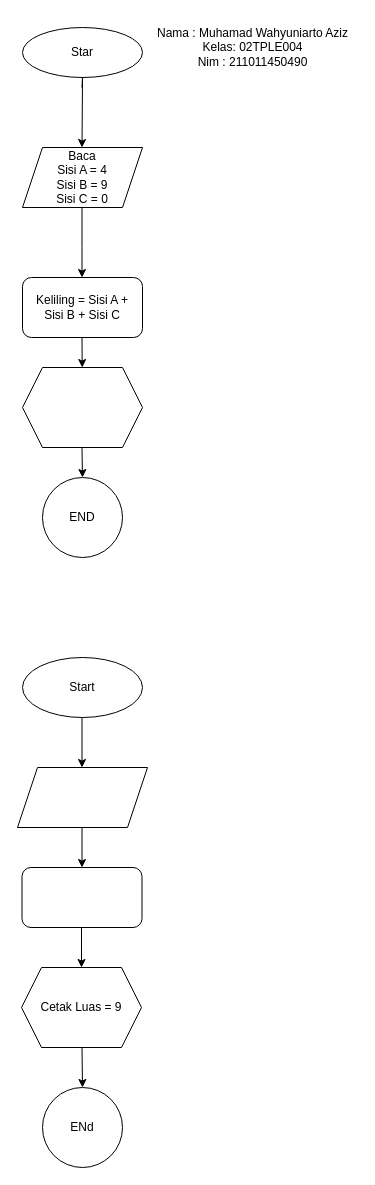
Image size: 375x1185. Some labels were removed from this diagram. Each missing label, with the box of its shape:
Baca Panjang = 9 Lebar = 0: (16, 766, 148, 828)
Cetak Keliling = 13: (22, 366, 142, 448)
Luas = 9*0: (21, 866, 142, 928)
